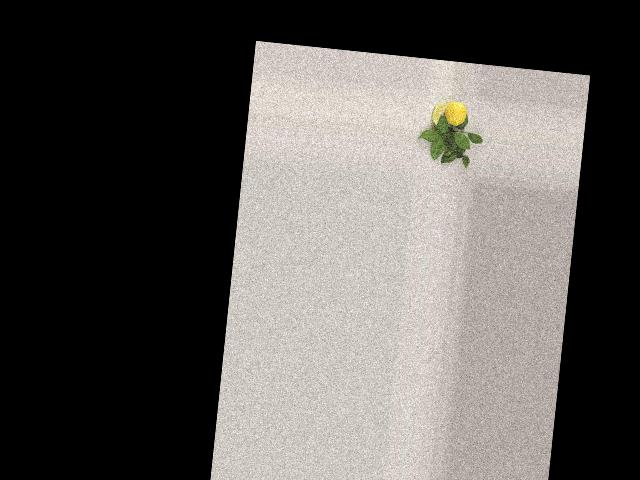lemon: (445, 101, 468, 129)
